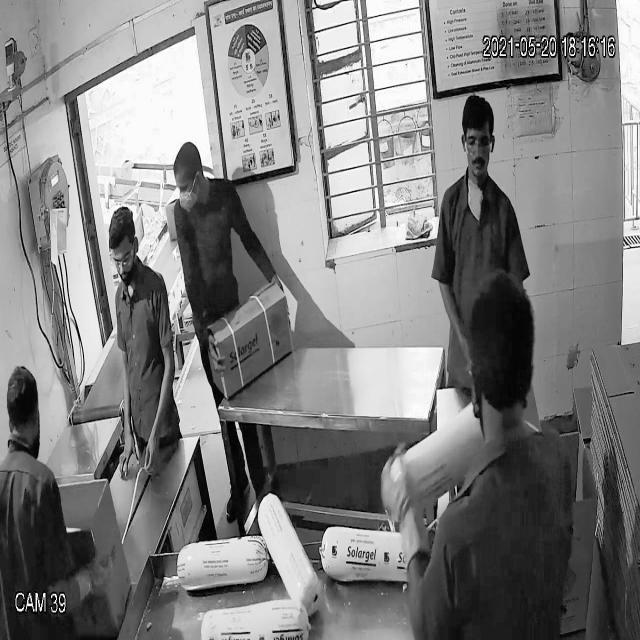hairnet: (112, 258, 142, 288)
mask: (175, 183, 208, 213)
no_apron: (138, 437, 172, 478), (115, 442, 142, 482)
no_gloves: (459, 272, 542, 423), (4, 362, 40, 437), (455, 93, 498, 143), (103, 202, 141, 252), (168, 141, 207, 187)
no_hairnet: (463, 146, 493, 179)
